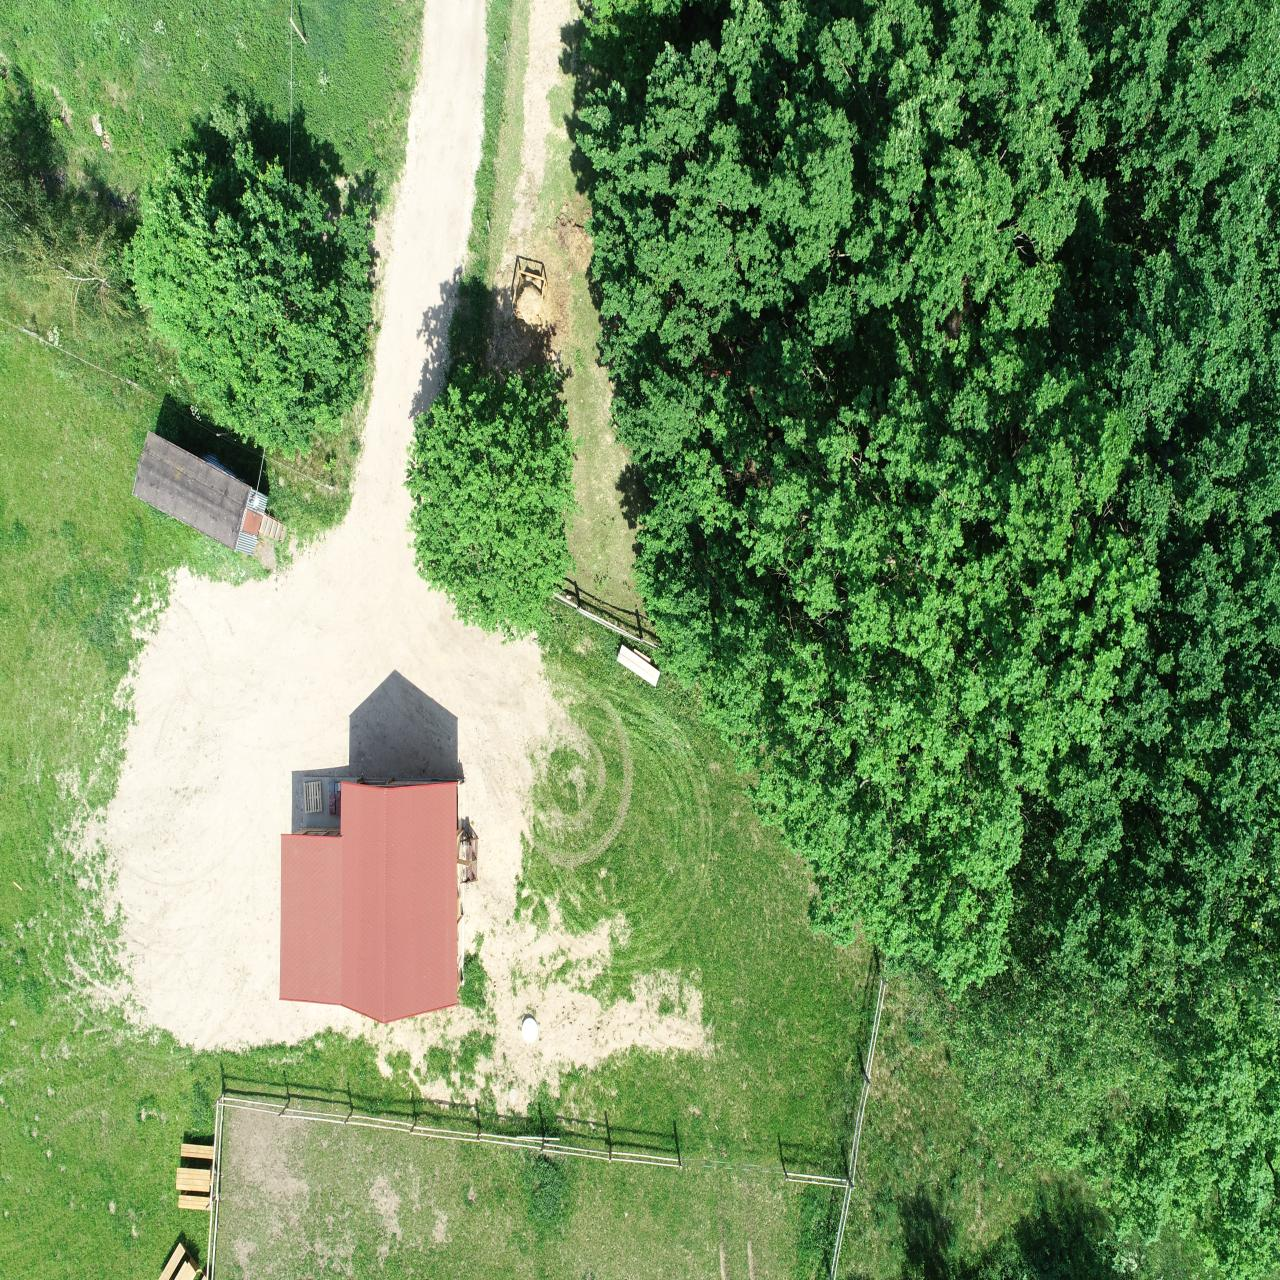cow: (1078, 57, 1103, 123), (641, 188, 669, 240), (872, 244, 905, 288), (1156, 361, 1184, 413), (735, 82, 763, 132), (568, 142, 595, 192), (689, 817, 719, 863), (770, 207, 790, 267), (592, 491, 618, 537), (891, 520, 915, 567), (832, 156, 850, 222), (620, 470, 644, 518), (747, 375, 767, 430), (796, 747, 828, 779), (763, 893, 799, 920), (649, 257, 663, 322), (850, 0, 869, 14)
